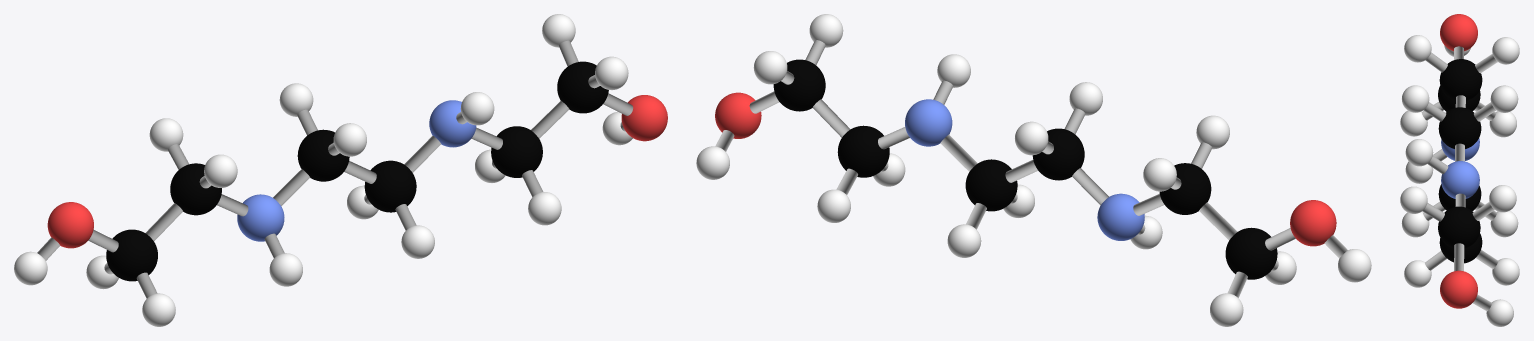
File: template.gltf
3 renders of one model, left to right at view 1: azimuth 30°, elevation 25°; view 2: azimuth 150°, elevation 25°; view 3: azimuth 270°, elevation 25°, orthographic. The views are drawn at different scales.
Parts seen in each view (by area): view 1: Ethanol, 2,2'-(1,2-ethanediyldiimino)bis-.mol; view 2: Ethanol, 2,2'-(1,2-ethanediyldiimino)bis-.mol; view 3: Ethanol, 2,2'-(1,2-ethanediyldiimino)bis-.mol.
Boxes of the visible parts, x1,y1,x2,y2 form: Ethanol, 2,2'-(1,2-ethanediyldiimino)bis-.mol: [14, 14, 667, 326]; Ethanol, 2,2'-(1,2-ethanediyldiimino)bis-.mol: [696, 14, 1371, 326]; Ethanol, 2,2'-(1,2-ethanediyldiimino)bis-.mol: [1400, 14, 1519, 326].
Size of the model in its own units: 12.27 by 2.91 by 2.39.
